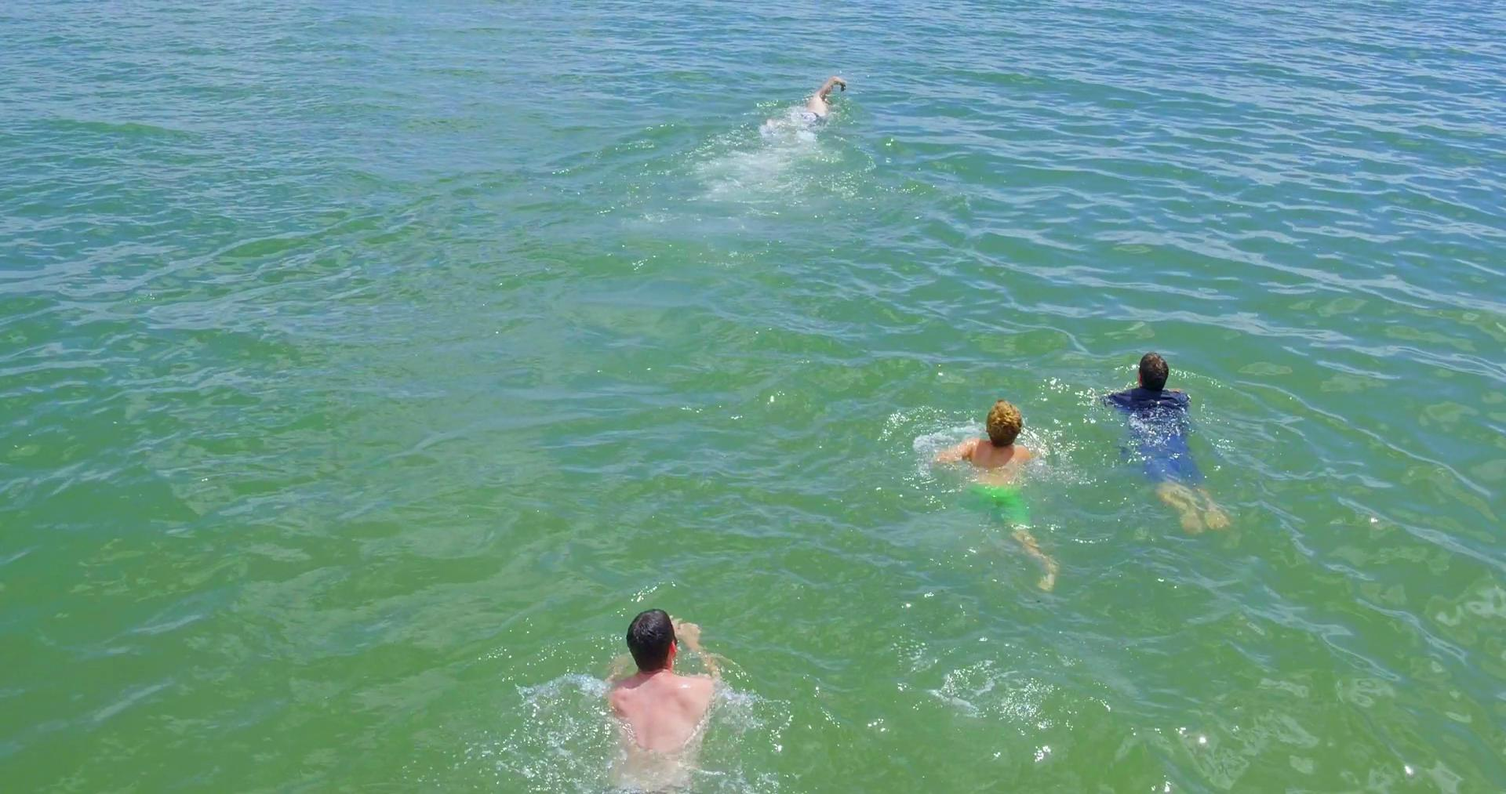swimmer: (602, 604, 733, 792), (932, 399, 1064, 584), (1112, 352, 1230, 534), (805, 74, 846, 125)
